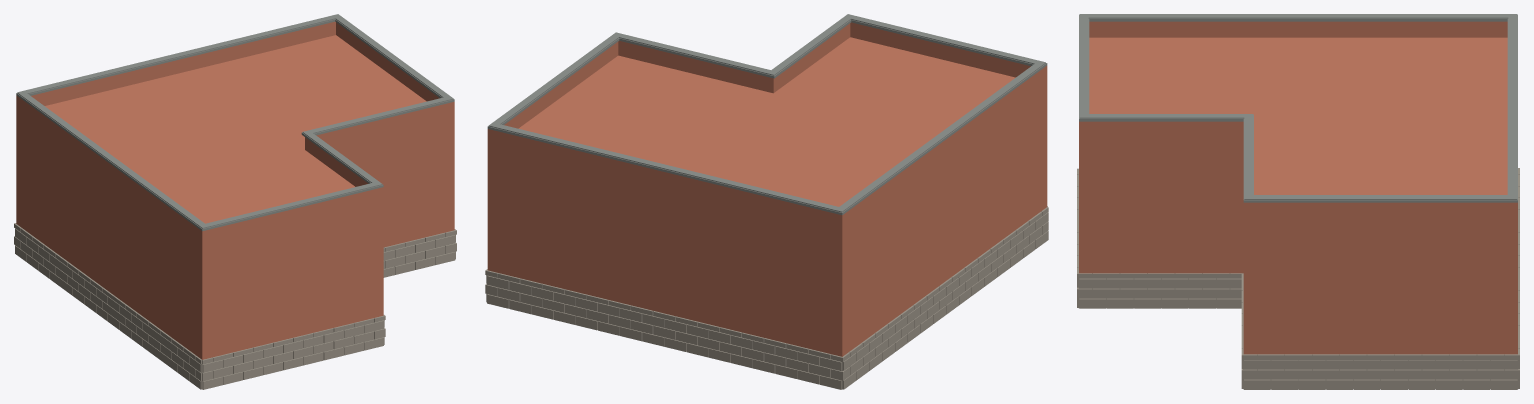
File: building.glb
The picture shows the model from 3 angles, left to right: view 1: azimuth 30°, elevation 25°; view 2: azimuth 150°, elevation 25°; view 3: azimuth 270°, elevation 25°; orthographic projection. The views are drawn at different scales.
Visible parts, largest first — view 1: roof/body:0/roof_slab#0001, body:0/edge0/z0/body:0/edge0/z0/wall_0_0, body:0/edge5/z0/body:0/edge5/z0/wall_0_0, roof/body:0/parapet#0001, body:0/edge2/z0/body:0/edge2/z0/wall_0_0, roof/body:0/parapet_cap#0002, roof/body:0/parapet_cap#0001, body:0/edge4/z0/body:0/edge4/z0/wall_0_0, body:0/edge3/z0/body:0/edge3/z0/wall_0_0; view 2: roof/body:0/roof_slab#0001, body:0/edge4/z0/body:0/edge4/z0/wall_0_0, body:0/edge5/z0/body:0/edge5/z0/wall_0_0, roof/body:0/parapet#0001, roof/body:0/parapet_cap#0002, roof/body:0/parapet_cap#0001, body:0/edge3/z0/body:0/edge3/z0/wall_0_0, body:0/edge0/z0/body:0/edge0/z0/wall_0_0; view 3: roof/body:0/roof_slab#0001, body:0/edge3/z0/body:0/edge3/z0/wall_0_0, body:0/edge1/z0/body:0/edge1/z0/wall_0_0, roof/body:0/parapet#0001, roof/body:0/parapet_cap#0002, roof/body:0/parapet_cap#0001, body:0/edge2/z0/body:0/edge2/z0/wall_0_0, body:0/edge0/z0/body:0/edge0/z0/wall_0_0, trim/plinth/0/0/trim_plinth#0001, body:0/edge5/z0/body:0/edge5/z0/wall_0_0, body:0/edge4/z0/body:0/edge4/z0/wall_0_0.
Boxes of the visible parts, x1=… form: roof/body:0/roof_slab#0001: x1=16, y1=35, x2=454, y2=253; body:0/edge0/z0/body:0/edge0/z0/wall_0_0: x1=197, y1=202, x2=383, y2=359; body:0/edge5/z0/body:0/edge5/z0/wall_0_0: x1=16, y1=111, x2=210, y2=359; roof/body:0/parapet#0001: x1=16, y1=21, x2=454, y2=245; body:0/edge2/z0/body:0/edge2/z0/wall_0_0: x1=332, y1=116, x2=454, y2=247; roof/body:0/parapet_cap#0002: x1=17, y1=14, x2=453, y2=228; roof/body:0/parapet_cap#0001: x1=16, y1=19, x2=454, y2=231; body:0/edge4/z0/body:0/edge4/z0/wall_0_0: x1=16, y1=35, x2=336, y2=226; body:0/edge3/z0/body:0/edge3/z0/wall_0_0: x1=334, y1=35, x2=454, y2=231; roof/body:0/roof_slab#0001: x1=487, y1=37, x2=1047, y2=239; body:0/edge4/z0/body:0/edge4/z0/wall_0_0: x1=487, y1=146, x2=847, y2=356; body:0/edge5/z0/body:0/edge5/z0/wall_0_0: x1=833, y1=82, x2=1047, y2=356; roof/body:0/parapet#0001: x1=487, y1=22, x2=1047, y2=231; roof/body:0/parapet_cap#0002: x1=488, y1=14, x2=1045, y2=212; roof/body:0/parapet_cap#0001: x1=487, y1=19, x2=1047, y2=215; body:0/edge3/z0/body:0/edge3/z0/wall_0_0: x1=487, y1=55, x2=619, y2=272; body:0/edge0/z0/body:0/edge0/z0/wall_0_0: x1=849, y1=37, x2=1047, y2=208; roof/body:0/roof_slab#0001: x1=1079, y1=38, x2=1517, y2=228; body:0/edge3/z0/body:0/edge3/z0/wall_0_0: x1=1243, y1=220, x2=1517, y2=354; body:0/edge1/z0/body:0/edge1/z0/wall_0_0: x1=1079, y1=139, x2=1243, y2=273; roof/body:0/parapet#0001: x1=1079, y1=21, x2=1517, y2=219; roof/body:0/parapet_cap#0002: x1=1079, y1=14, x2=1517, y2=199; roof/body:0/parapet_cap#0001: x1=1079, y1=14, x2=1517, y2=202; body:0/edge2/z0/body:0/edge2/z0/wall_0_0: x1=1243, y1=140, x2=1254, y2=354; body:0/edge0/z0/body:0/edge0/z0/wall_0_0: x1=1079, y1=39, x2=1089, y2=273; trim/plinth/0/0/trim_plinth#0001: x1=1078, y1=169, x2=1518, y2=389; body:0/edge5/z0/body:0/edge5/z0/wall_0_0: x1=1089, y1=37, x2=1507, y2=39; body:0/edge4/z0/body:0/edge4/z0/wall_0_0: x1=1507, y1=37, x2=1517, y2=354.
Bounding box in the file's own units: 8.07 × 3.82 × 8.07.
